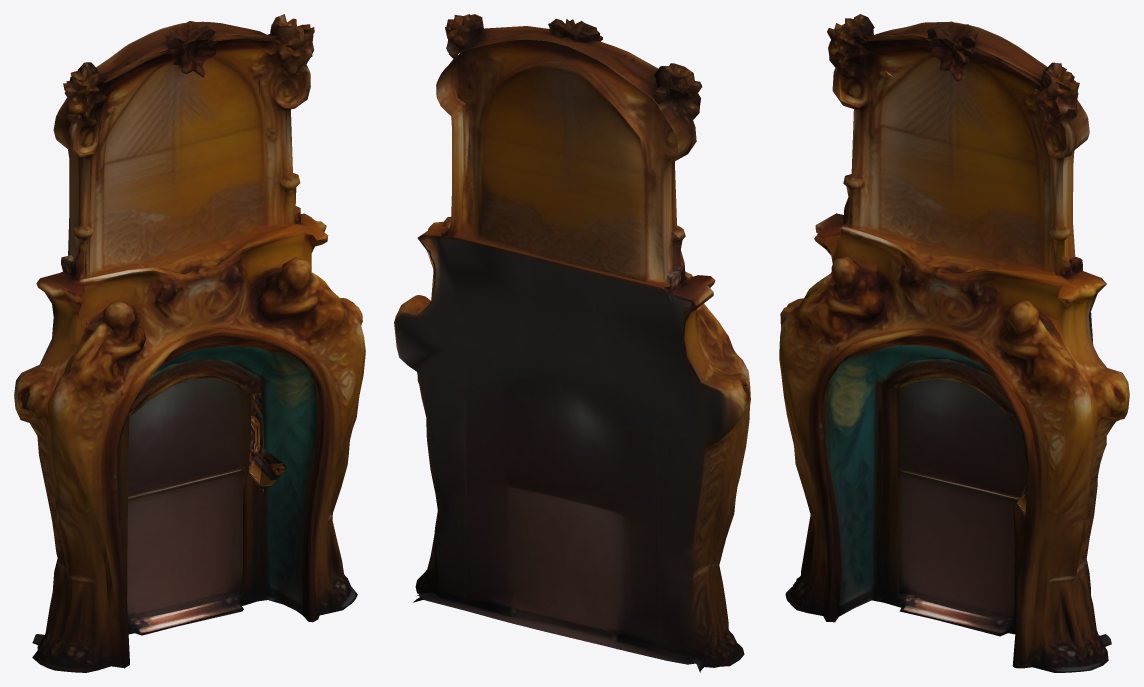
Rendered from fireplace-83.152.glb.
3 renders of one model, left to right at view 1: azimuth 30°, elevation 25°; view 2: azimuth 150°, elevation 25°; view 3: azimuth 330°, elevation 25°, orthographic.
Parts seen in each view (by area): view 1: Mesh; view 2: Mesh; view 3: Mesh.
Boxes of the visible parts, x1,y1,x2,y2 form: Mesh: (14,14,365,672); Mesh: (394,14,750,672); Mesh: (779,14,1129,672).
Size of the model in its own units: 2.1 by 3.5 by 0.508.
Materials: 1 (1 with a texture image).
